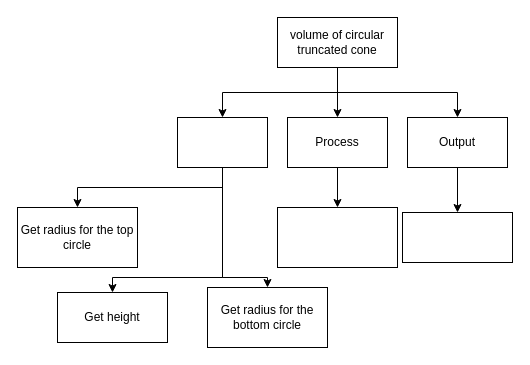
Some shapes in this 530 by 365 pixel diagram are drawn without their labels. The shapes that lost their labels are listed below. From the top down, each one's centre as x and y in pixels, then its label:
point (222, 142): Input
point (337, 237): Calculate the volume using the formula
point (457, 237): Show volume
